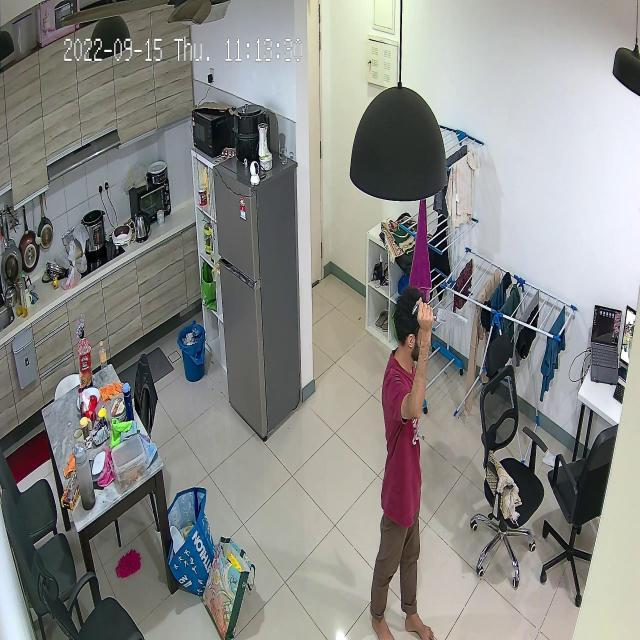Knife: (402, 289, 475, 337)
